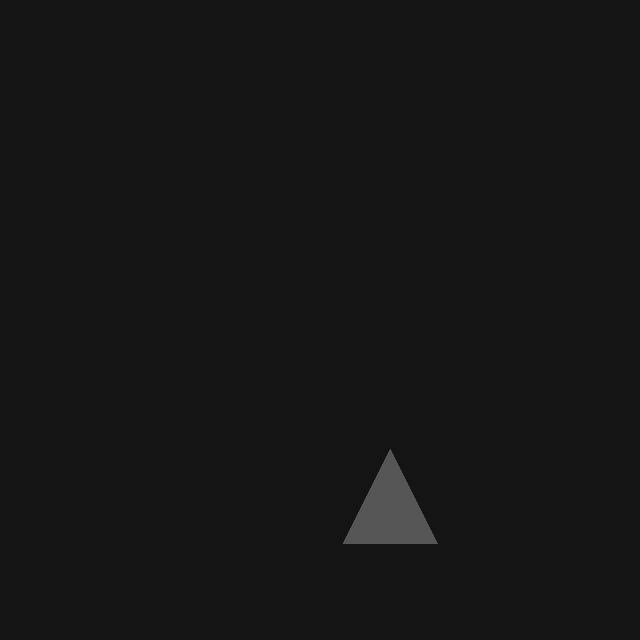triangle: (343, 449, 437, 543)
